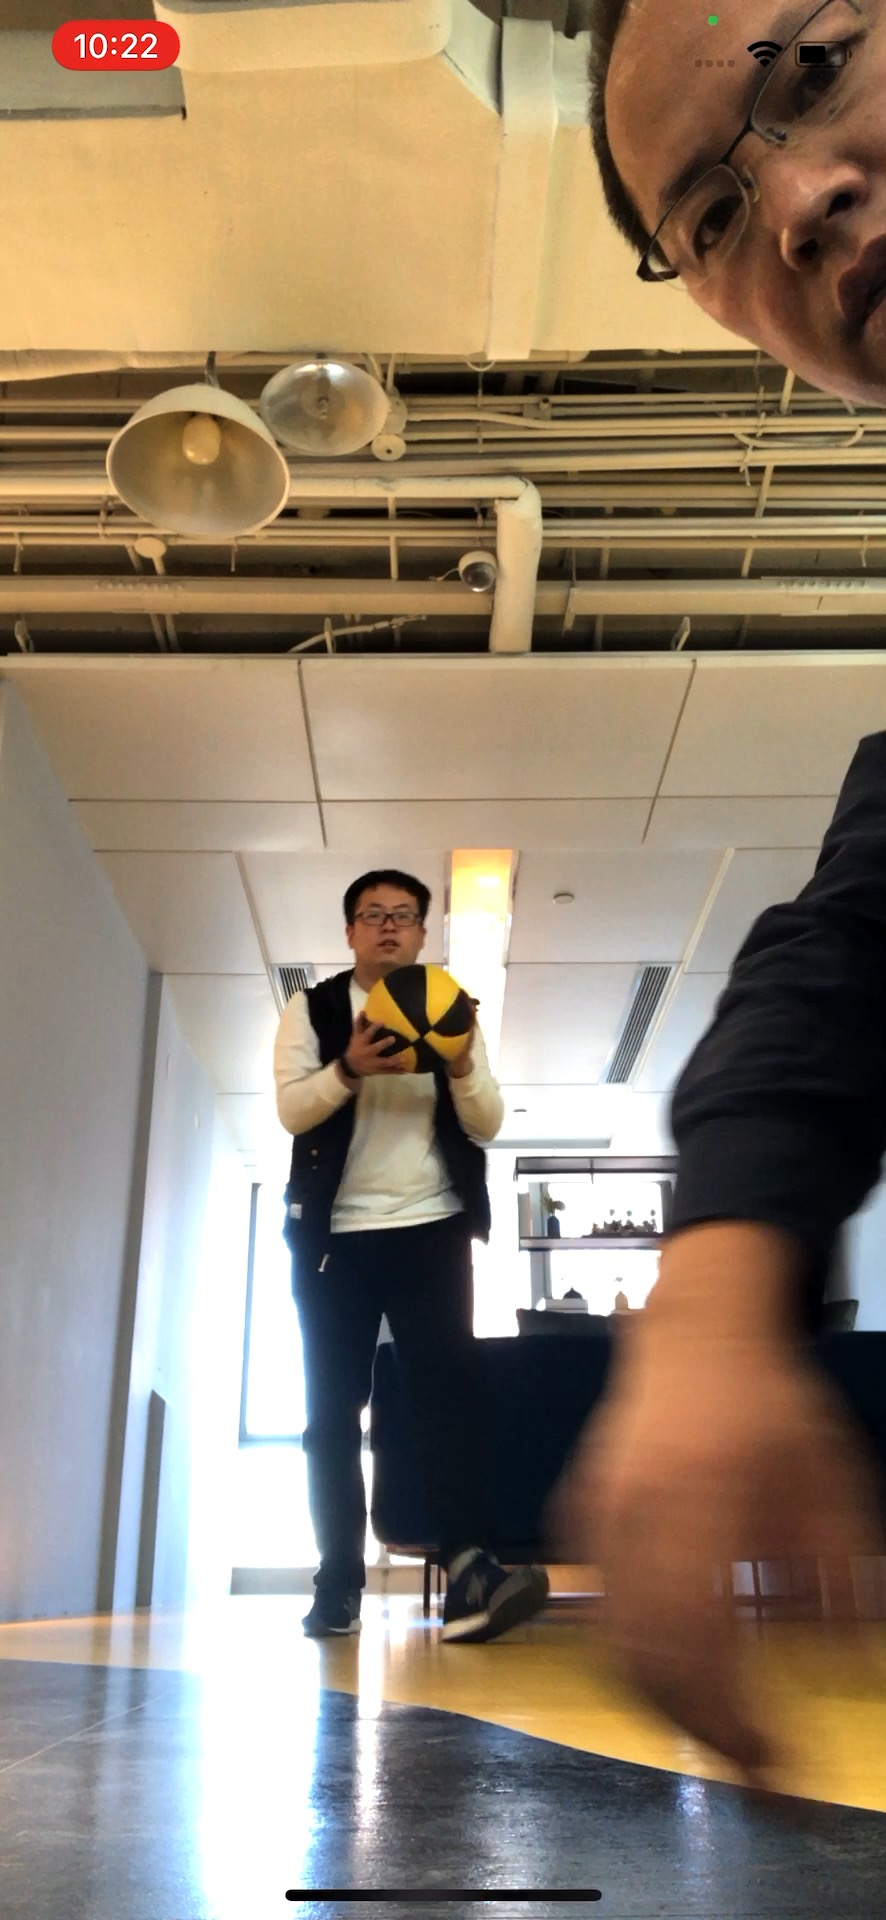ball: (359, 962, 478, 1076)
